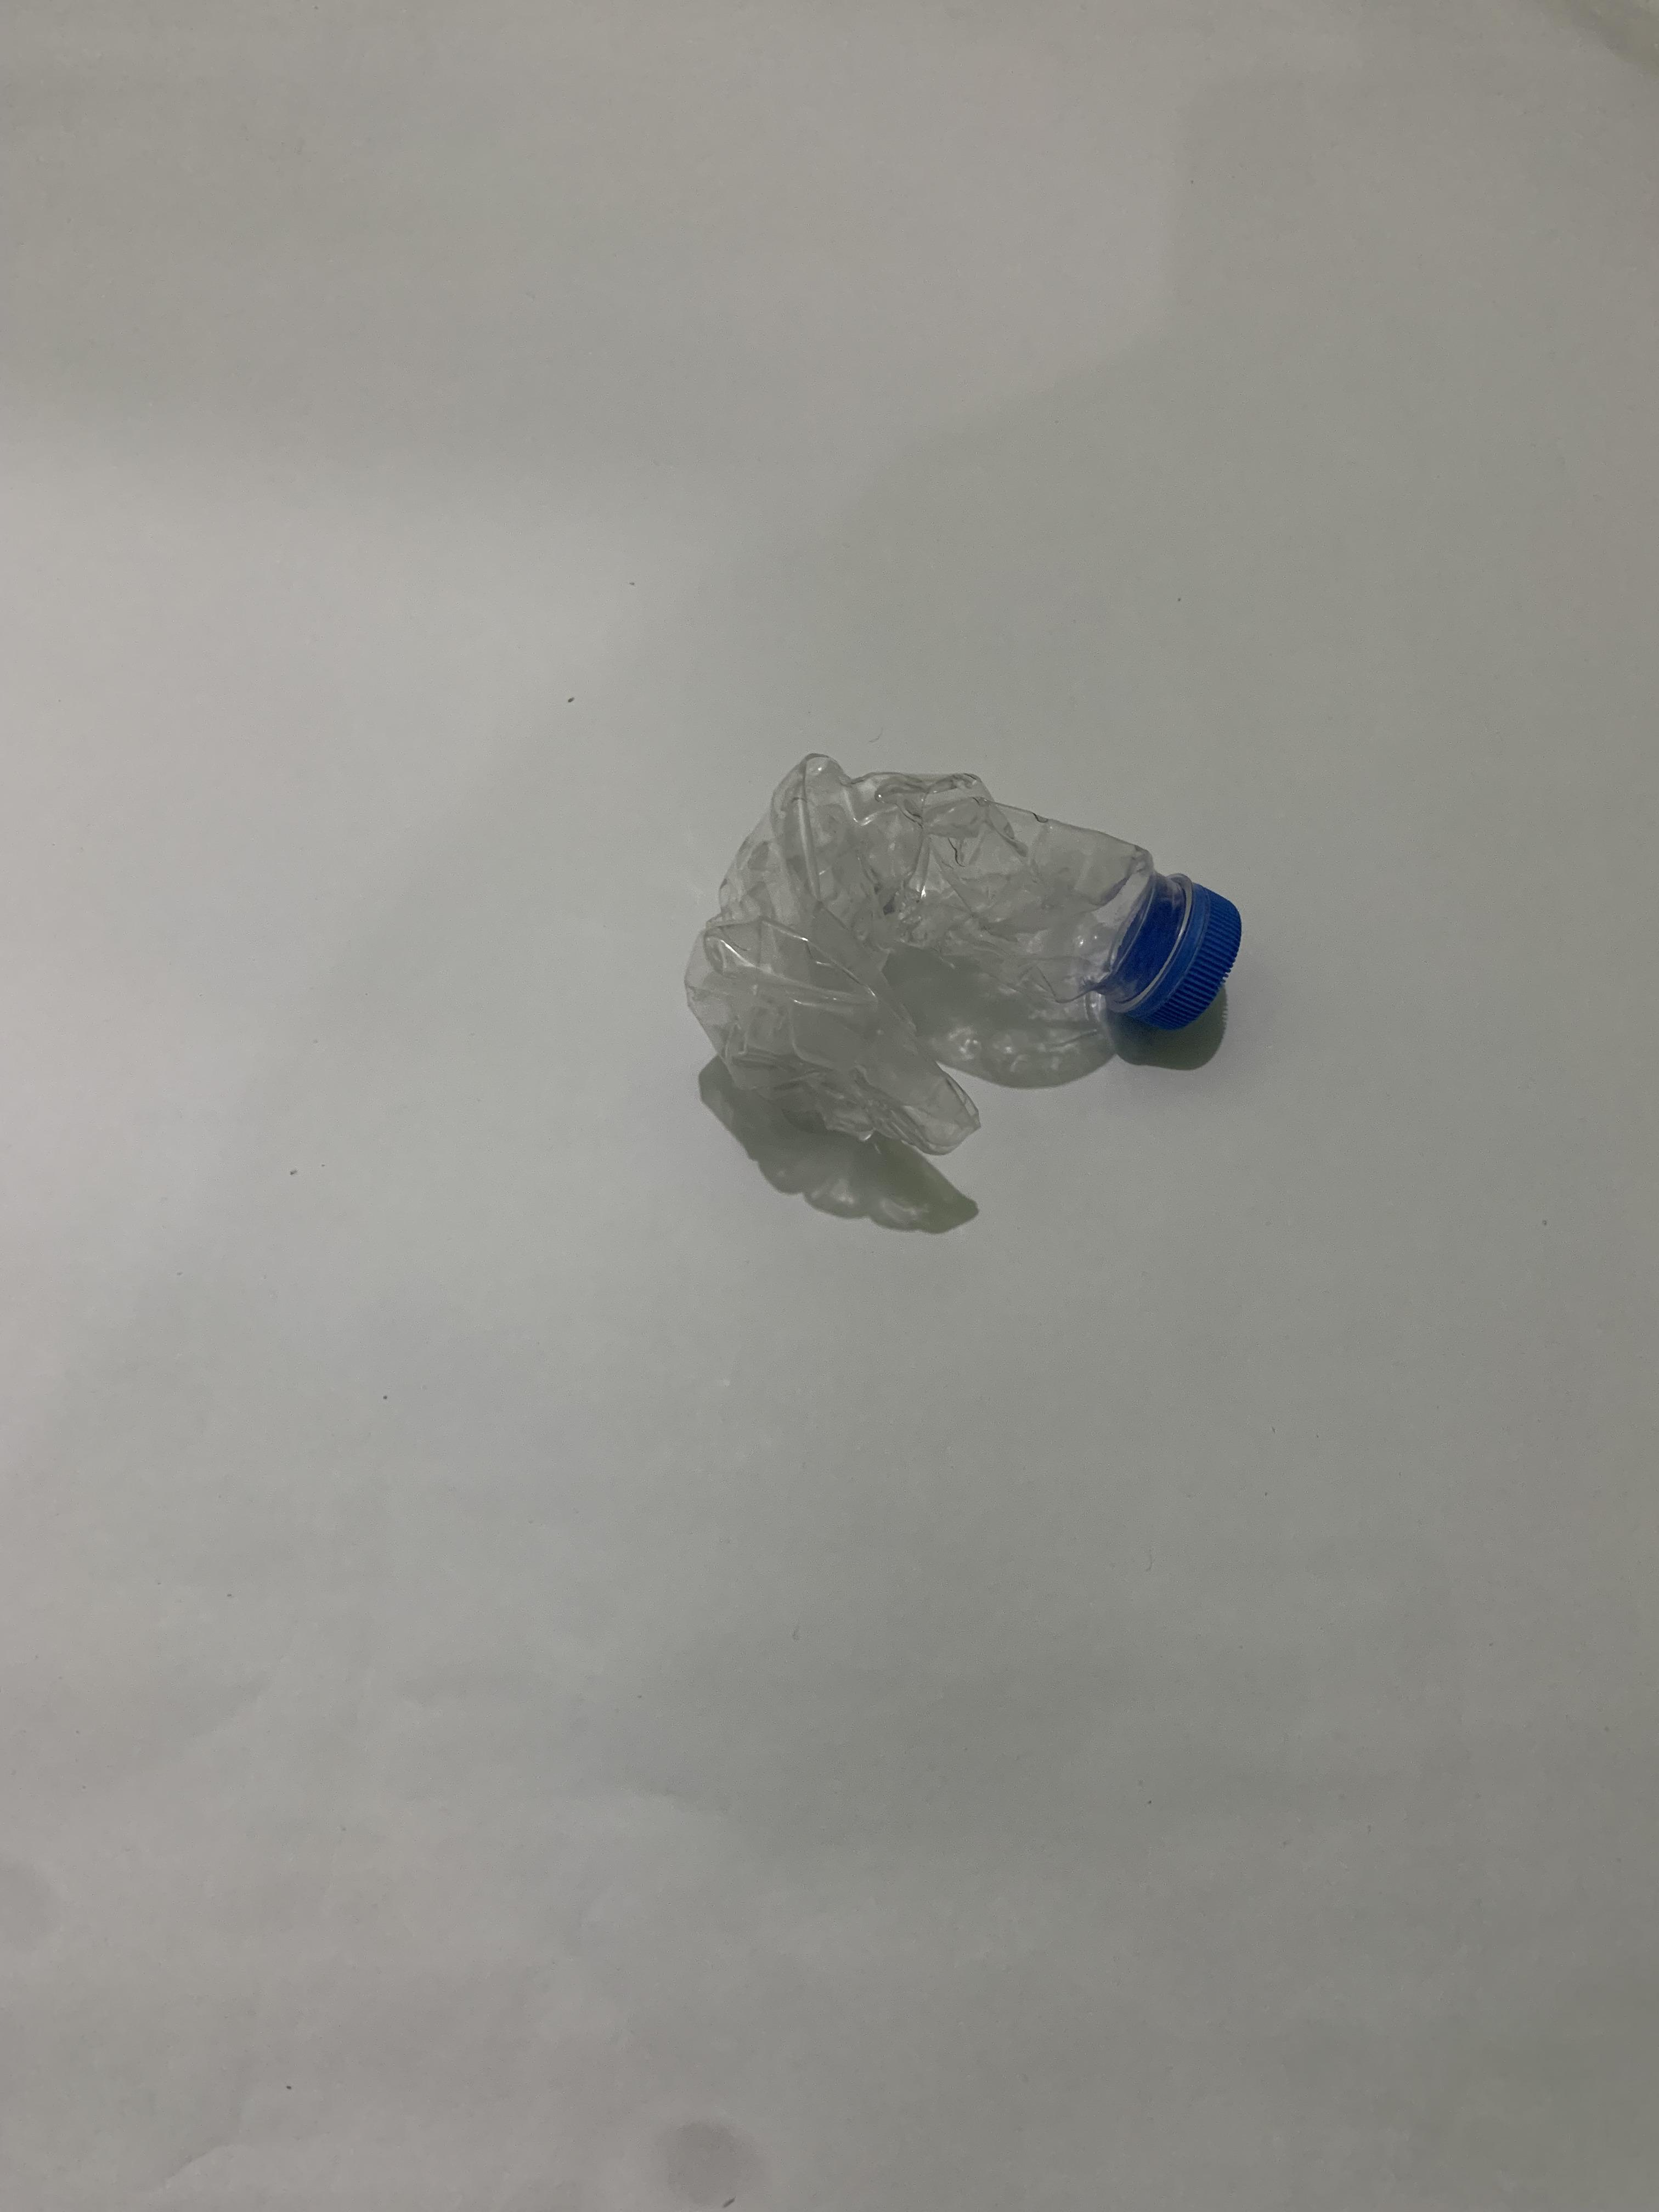bottle: (0, 740, 422, 1163)
